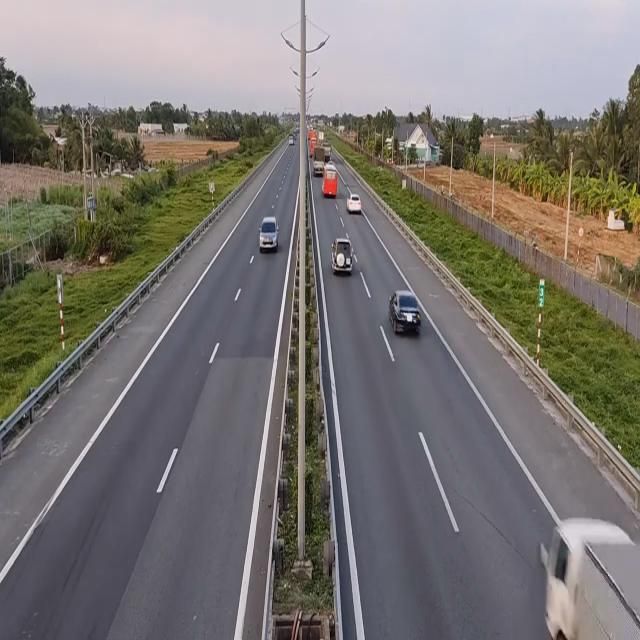bus: (322, 168, 339, 198)
car: (388, 289, 421, 337), (332, 238, 357, 279), (261, 215, 280, 253), (346, 191, 362, 216)
truck: (539, 512, 639, 640)
